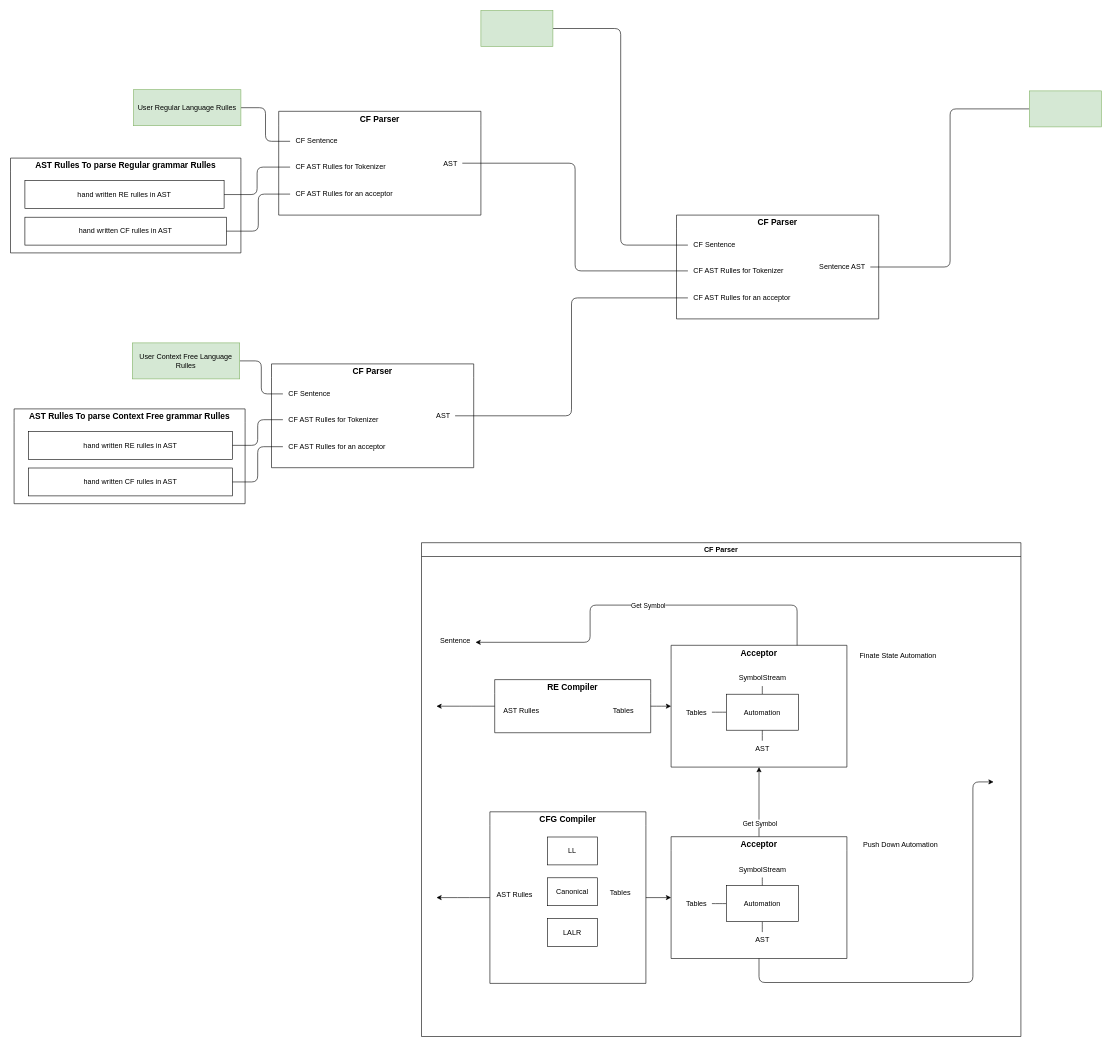
This 1112x1047 diagram has some shape labels left out. Each missing label, with the centre of its shape:
"User AST" belongs at point (1065, 108).
"User Sentence" belongs at point (516, 28).
